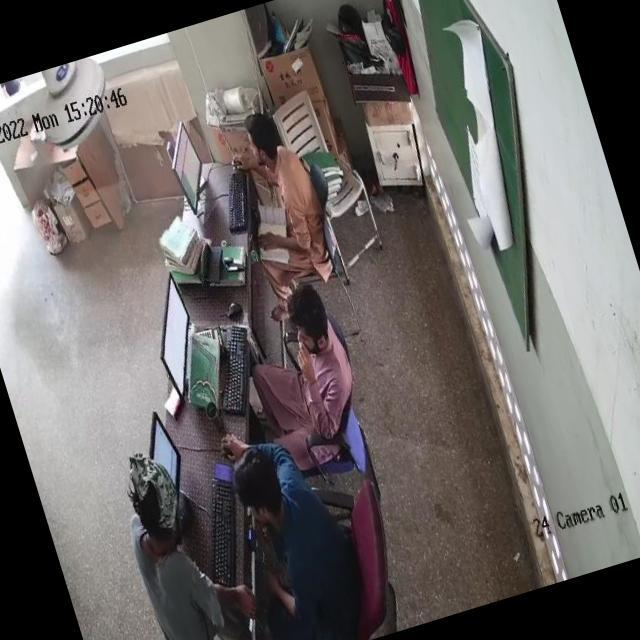person: (220, 410, 365, 630), (110, 441, 233, 640), (238, 280, 364, 459), (224, 112, 330, 280)
